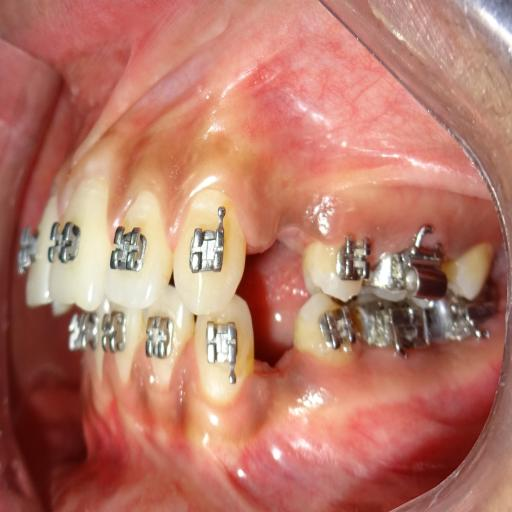correct_brace: (291, 220, 374, 313), (183, 218, 231, 281), (110, 214, 148, 284), (46, 218, 80, 272)
incorrect_brace: (105, 194, 169, 310), (338, 228, 372, 288)
